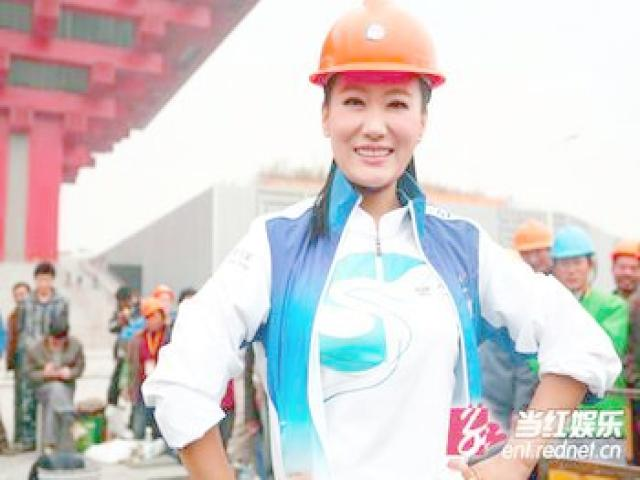Helmet: (303, 0, 449, 91)
